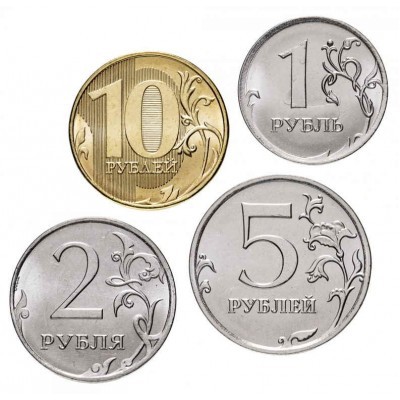coin: (188, 174, 372, 354), (10, 217, 178, 383), (68, 48, 231, 211), (239, 15, 390, 166)
